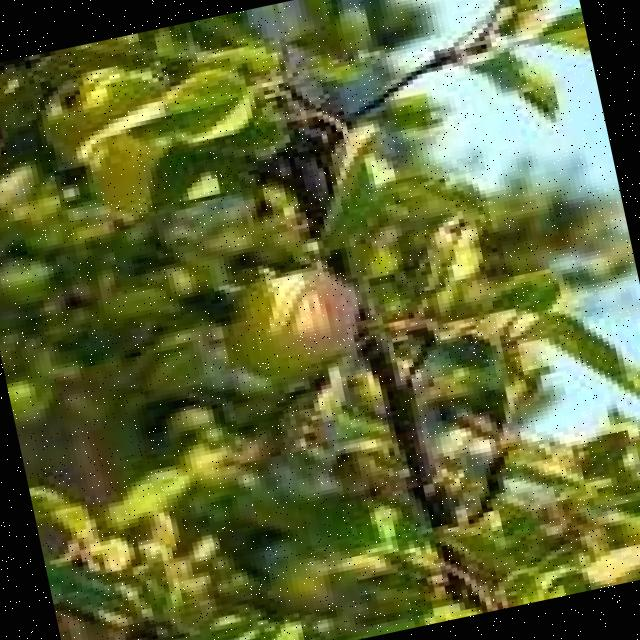Unripe: (212, 258, 371, 391)
